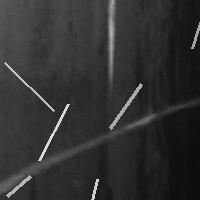scratches: (2, 100, 196, 194), (133, 1, 200, 198), (0, 57, 58, 115), (34, 99, 73, 165), (105, 79, 146, 133), (103, 1, 120, 96), (2, 171, 35, 200), (72, 174, 102, 200), (187, 2, 200, 53)
